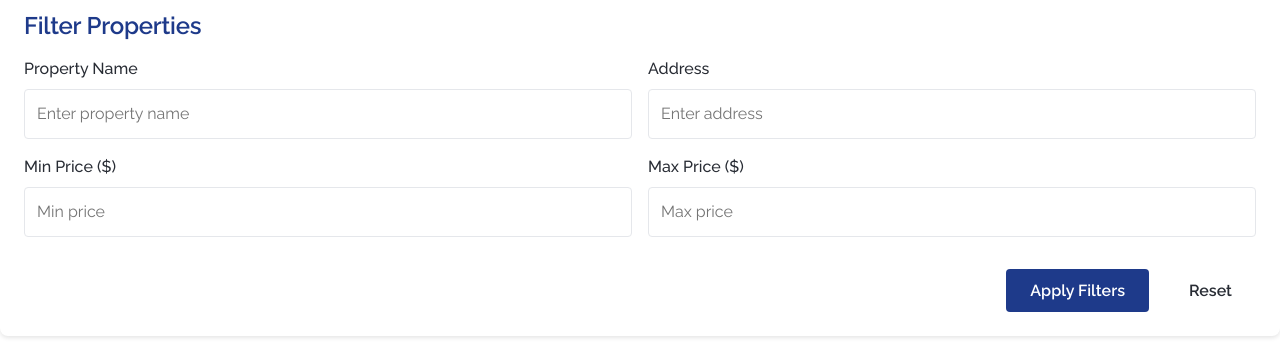
Test: PropertyFilter Component › resets filter values when Reset button is clicked
Fill out form
Type "Test Property" into the field labelled "Property Name".
click(328, 114); type("Test Property")  # box x1=24 y1=89 x2=632 y2=139
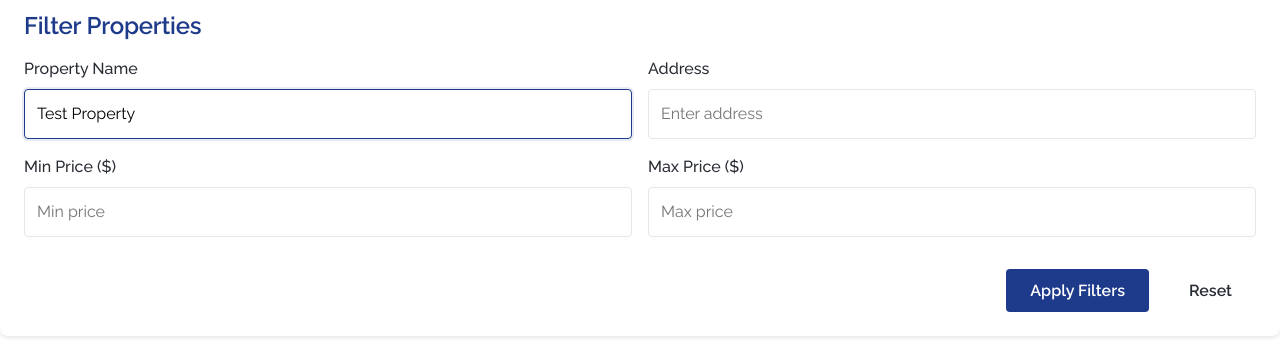
Click Reset button
Click the button "Reset".
click(1210, 290)  # box x1=1165 y1=269 x2=1256 y2=312
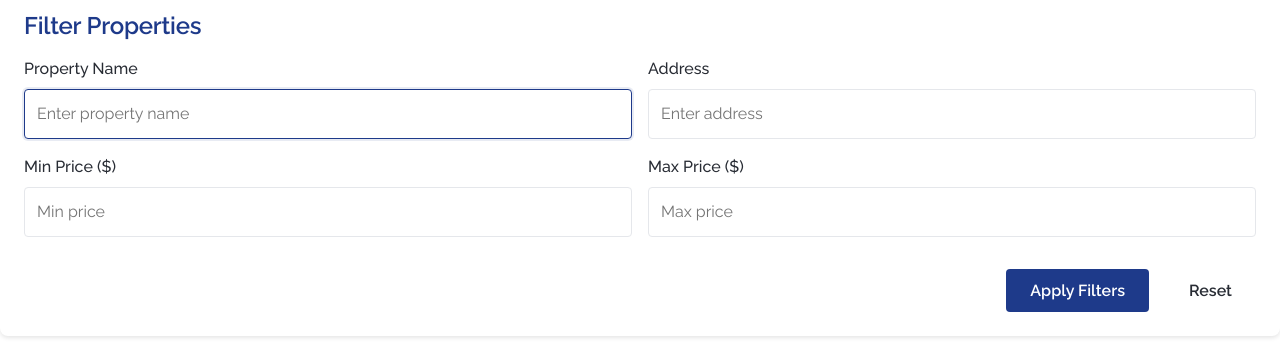
Expected: the field labelled "Property Name" is empty, x1=24 y1=89 x2=632 y2=139
